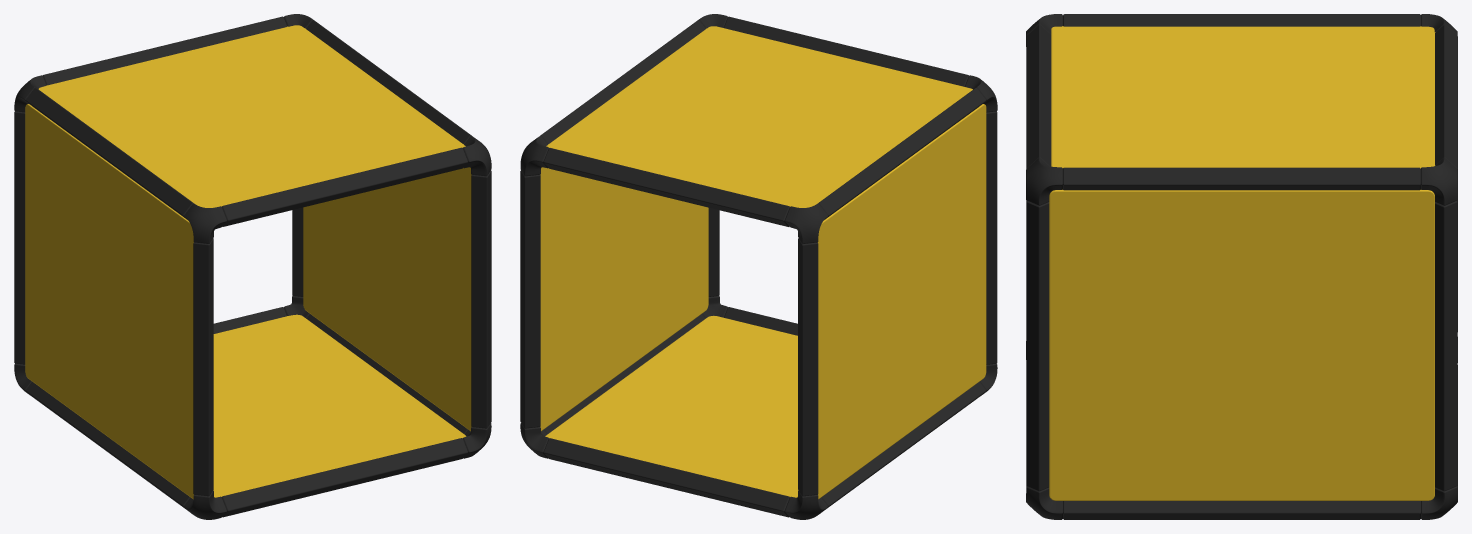
3 renders of one model, left to right at view 1: azimuth 30°, elevation 25°; view 2: azimuth 150°, elevation 25°; view 3: azimuth 270°, elevation 25°, orthographic. The views are drawn at different scales.
Parts seen in each view (by area): view 1: 329x374x329; view 2: 329x374x329; view 3: 329x374x329.
Boxes of the visible parts, x1,y1,x2,y2 form: 329x374x329: (14, 14, 491, 519); 329x374x329: (520, 14, 997, 519); 329x374x329: (1026, 14, 1457, 519).
Size of the model in its own units: 0.4067 by 0.4066 by 0.4513.
